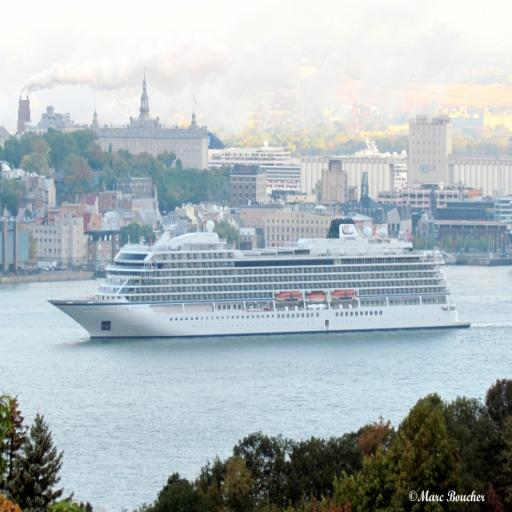cruises: (45, 211, 481, 342)
